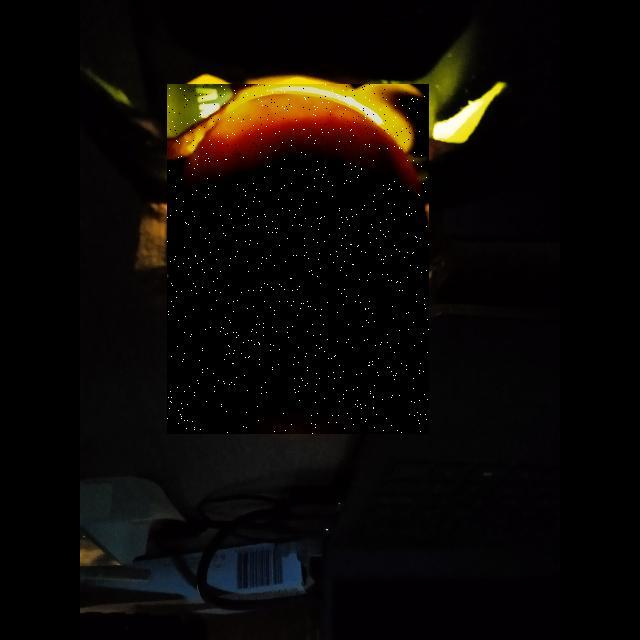Fertile: (167, 84, 429, 434)
